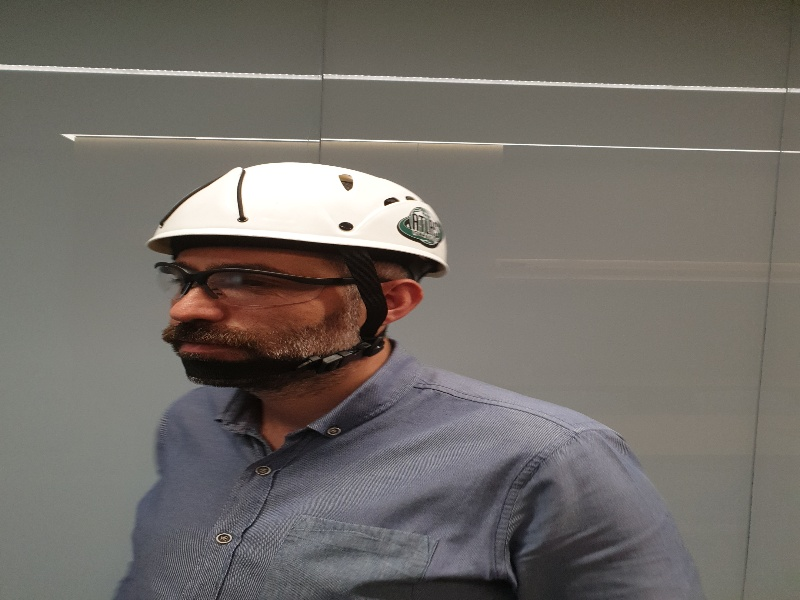Baret: (155, 161, 452, 269)
Gozluk: (152, 259, 387, 306)
